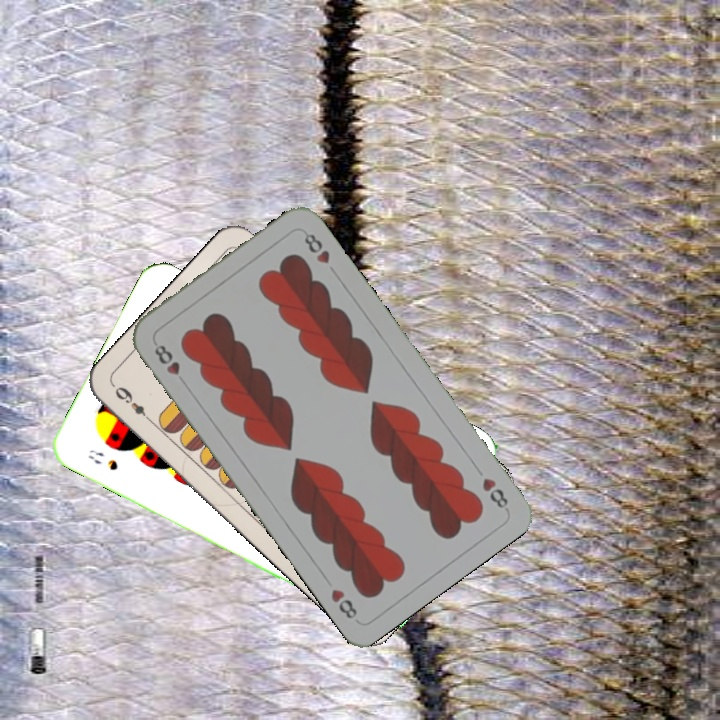E9: (110, 382, 156, 427)
H8: (478, 473, 511, 513), (150, 340, 183, 378)
S8: (84, 445, 121, 473)
